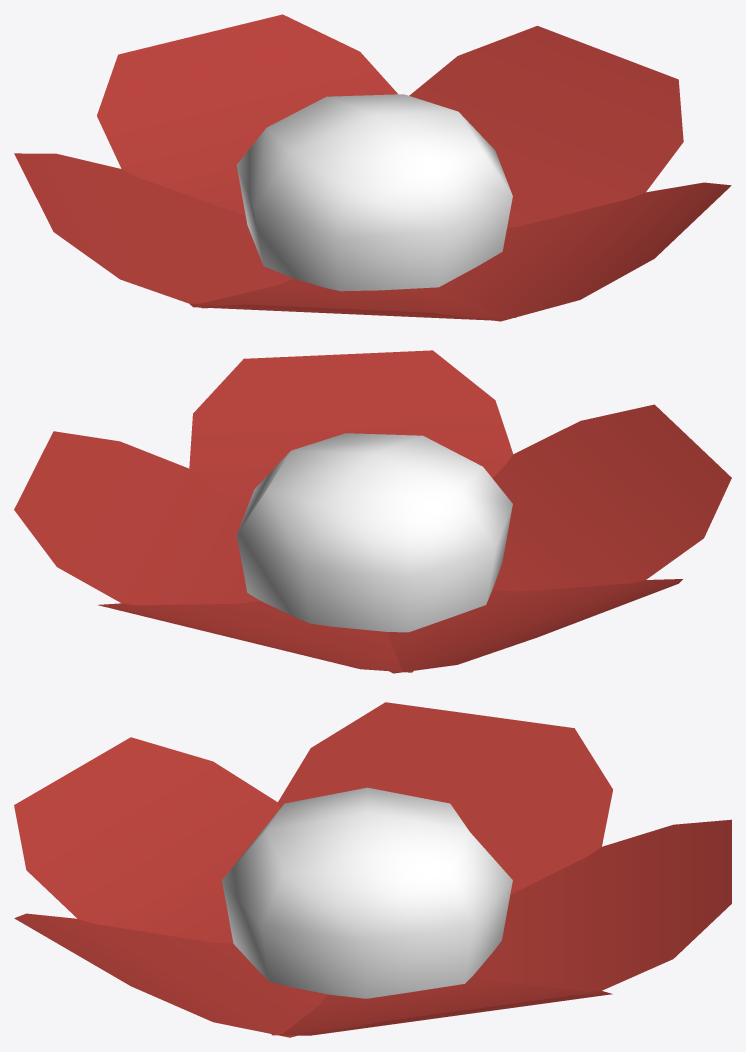
The model's file is CactusFlower_1.fbx.
3 renders of one model, top to bottom at view 1: azimuth 30°, elevation 25°; view 2: azimuth 150°, elevation 25°; view 3: azimuth 270°, elevation 25°, orthographic. The views are drawn at different scales.
Parts seen in each view (by area): view 1: CactusFlower_1; view 2: CactusFlower_1; view 3: CactusFlower_1.
Boxes of the visible parts, x1,y1,x2,y2 form: CactusFlower_1: (14,14,731,321); CactusFlower_1: (14,350,731,673); CactusFlower_1: (14,702,731,1037).
Bounding box in the file's own units: 28.54 × 5.81 × 27.14.
